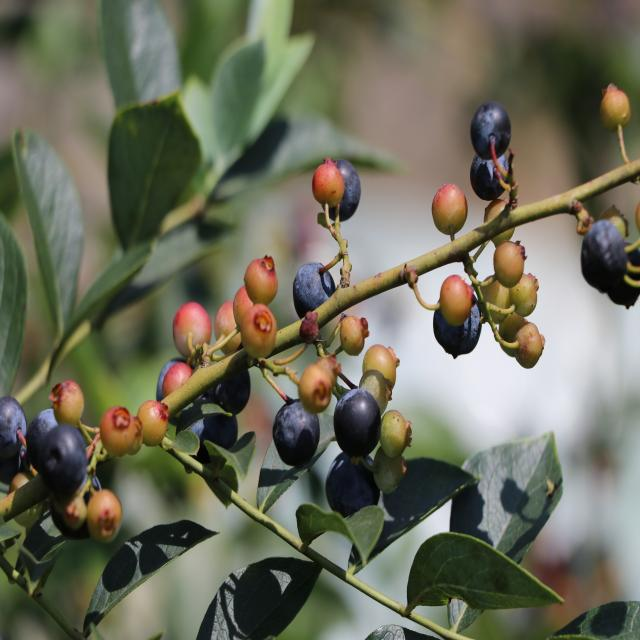blueberry: (323, 450, 385, 524), (330, 385, 384, 459), (432, 291, 487, 361), (269, 397, 321, 471), (38, 423, 88, 499), (580, 218, 628, 292), (290, 258, 342, 321), (181, 404, 237, 462), (322, 153, 364, 225), (468, 147, 512, 200), (469, 102, 514, 153), (211, 362, 252, 416), (0, 397, 28, 465), (25, 409, 59, 461), (157, 355, 185, 405)
blueberry-halfripe: (173, 298, 212, 356), (431, 184, 468, 234), (51, 380, 87, 430), (90, 488, 124, 540), (244, 302, 276, 356), (100, 404, 134, 454), (440, 275, 472, 327), (312, 164, 349, 207), (138, 399, 169, 447), (497, 238, 528, 285), (246, 260, 279, 304), (216, 301, 241, 351), (58, 491, 90, 529), (169, 362, 194, 404), (234, 286, 259, 326)
blueberry-unripe: (362, 346, 399, 392), (300, 364, 332, 416), (506, 268, 542, 314), (372, 449, 406, 497), (495, 307, 526, 359), (600, 82, 634, 128), (380, 407, 410, 457), (516, 319, 545, 369), (482, 274, 512, 320), (360, 370, 390, 414), (340, 315, 370, 354), (489, 204, 516, 237)
